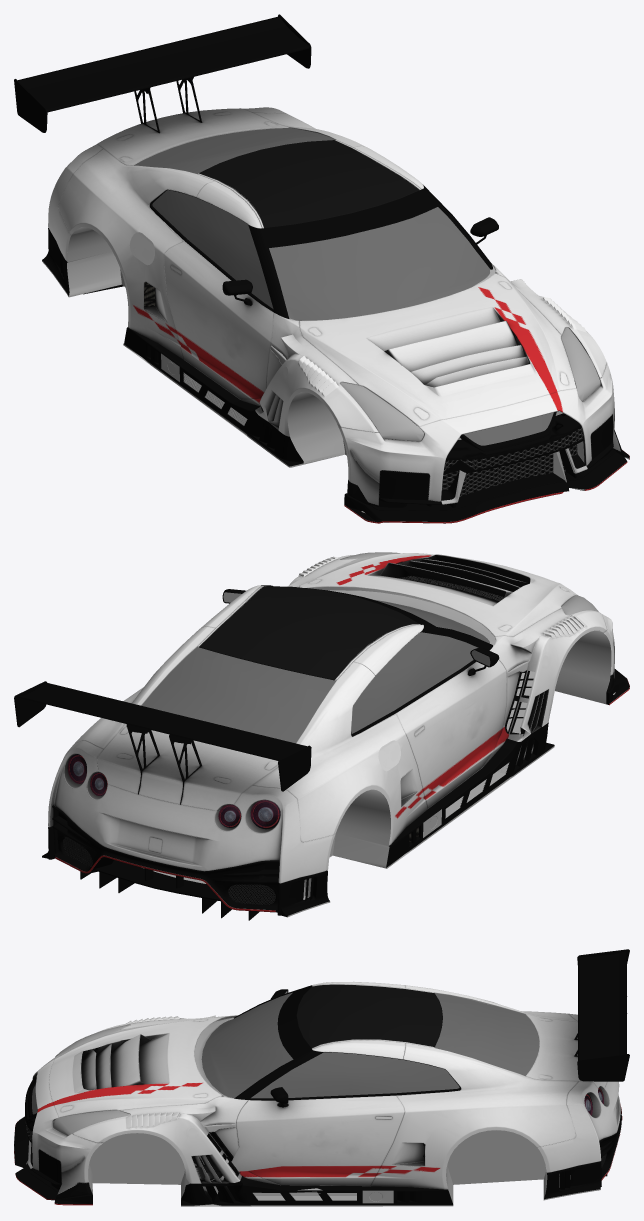
The model's file is car 6.fbx.
3 renders of one model, top to bottom at view 1: azimuth 30°, elevation 25°; view 2: azimuth 150°, elevation 25°; view 3: azimuth 270°, elevation 25°, orthographic. The views are drawn at different scales.
Parts seen in each view (by area): view 1: body; view 2: body; view 3: body.
Boxes of the visible parts, <box> form: body: <box>14,14,629,523</box>; body: <box>14,552,629,920</box>; body: <box>14,949,629,1206</box>.
Bounding box in the file's own units: 260 × 172 × 629.
Materials: 5 (3 with a texture image).
